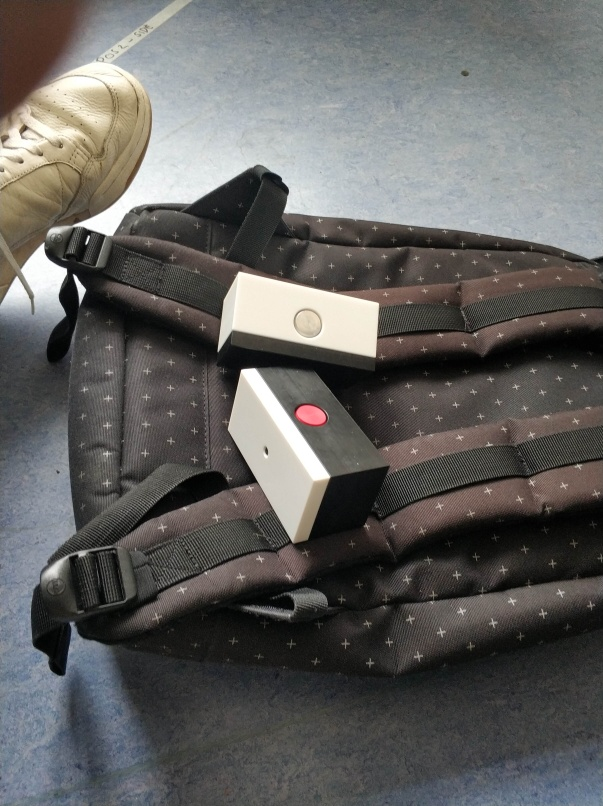black+white+silver: (214, 267, 386, 383)
white+black+red: (224, 363, 392, 545)
